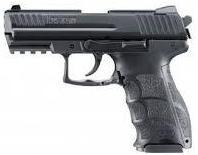gun: (1, 1, 198, 155)
